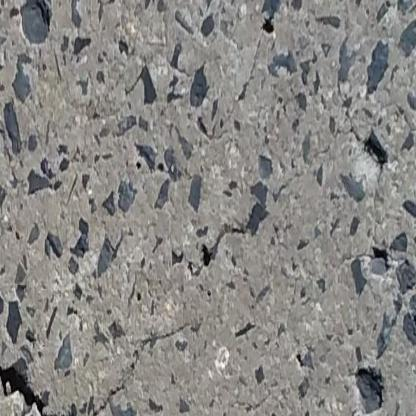Cracks: (0, 350, 80, 416)
